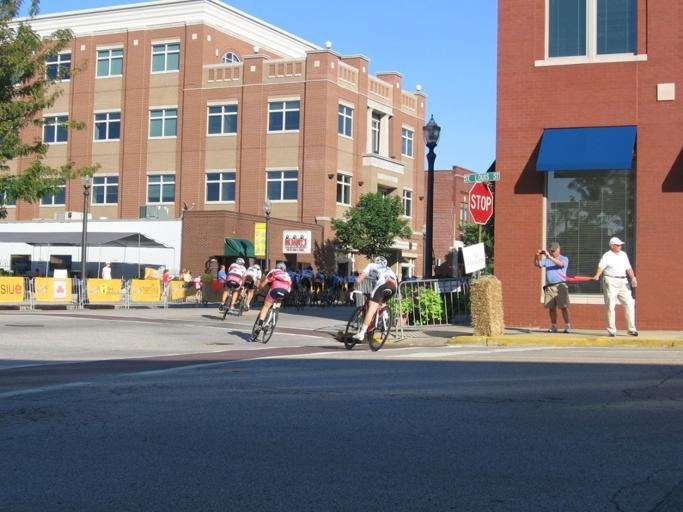non-vehicle: (343, 287, 394, 353), (251, 288, 284, 343), (219, 279, 239, 320), (240, 281, 255, 317)
